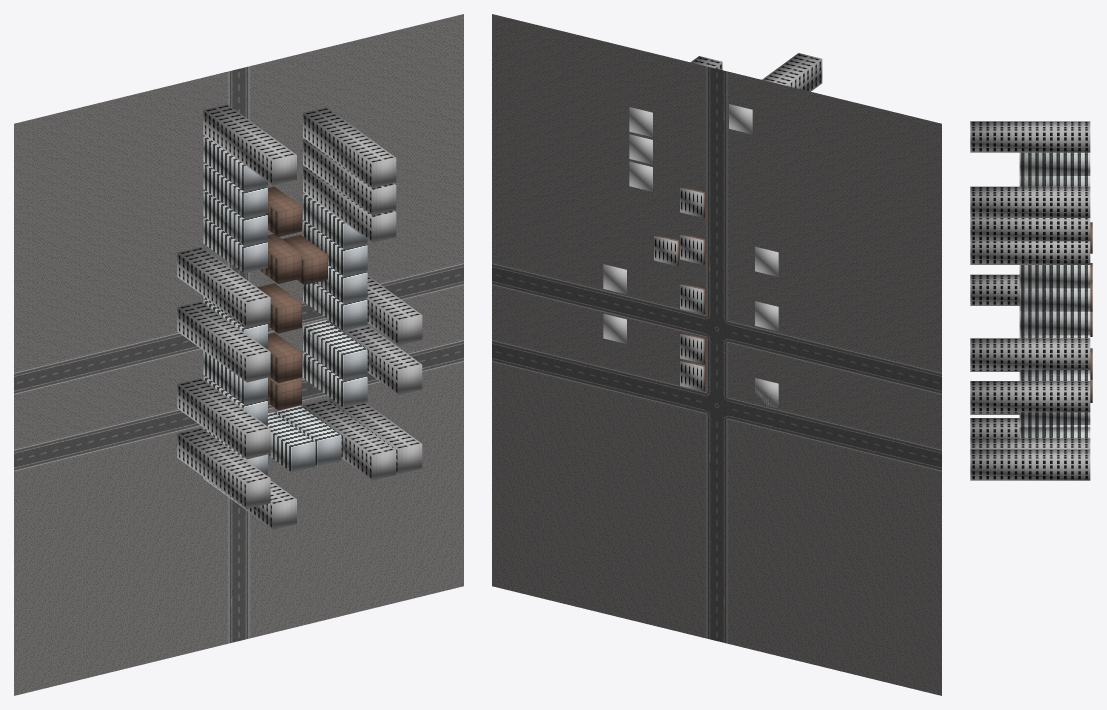
The model's file is stage-0-0.fbx.
The picture shows the model from 3 angles, left to right: view 1: azimuth 30°, elevation 25°; view 2: azimuth 150°, elevation 25°; view 3: azimuth 270°, elevation 25°; orthographic projection. The views are drawn at different scales.
Visible parts, largest first — view 1: Plane; view 2: Plane; view 3: Plane.
Boxes of the visible parts, <box> form: Plane: <box>14,14,463,695</box>; Plane: <box>492,14,941,695</box>; Plane: <box>970,121,1092,480</box>.
Bounding box in the file's own units: 190 × 231 × 52.
11 materials, 10 textured.
